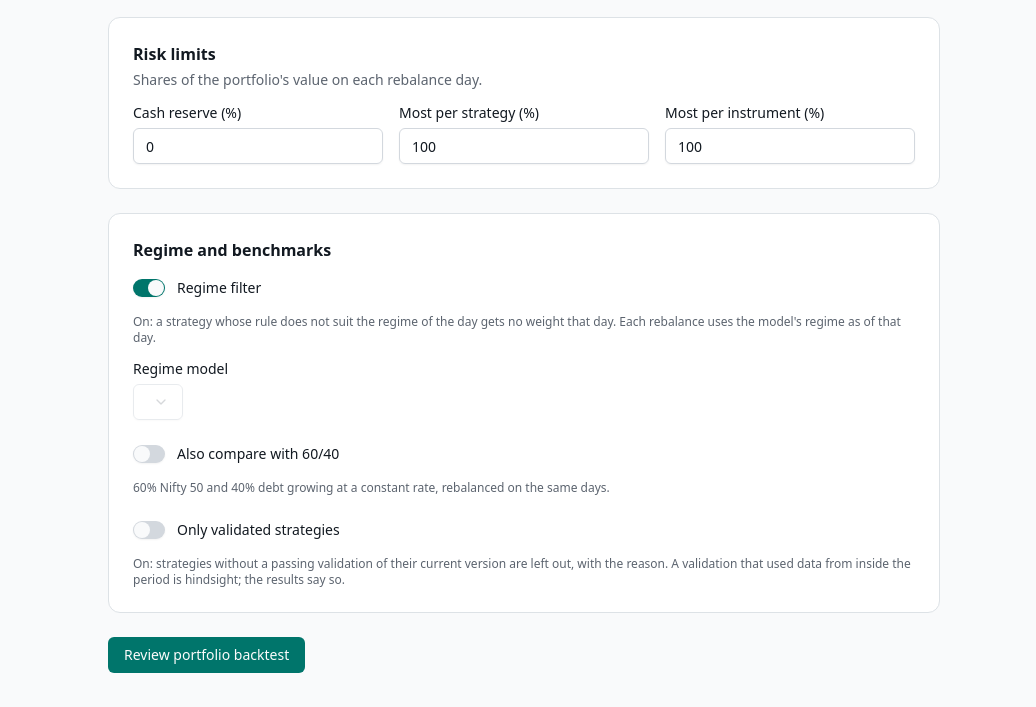
Test case: NewPortfolioBacktestPage › marks what is missing and shows the backend refusal
(page scrolled)
What coordinates should you click on to do the following:
click the button "Review portfolio backtest"
I would click on:
 (207, 655)
Its box is [108, 637, 305, 673].
(page scrolled)
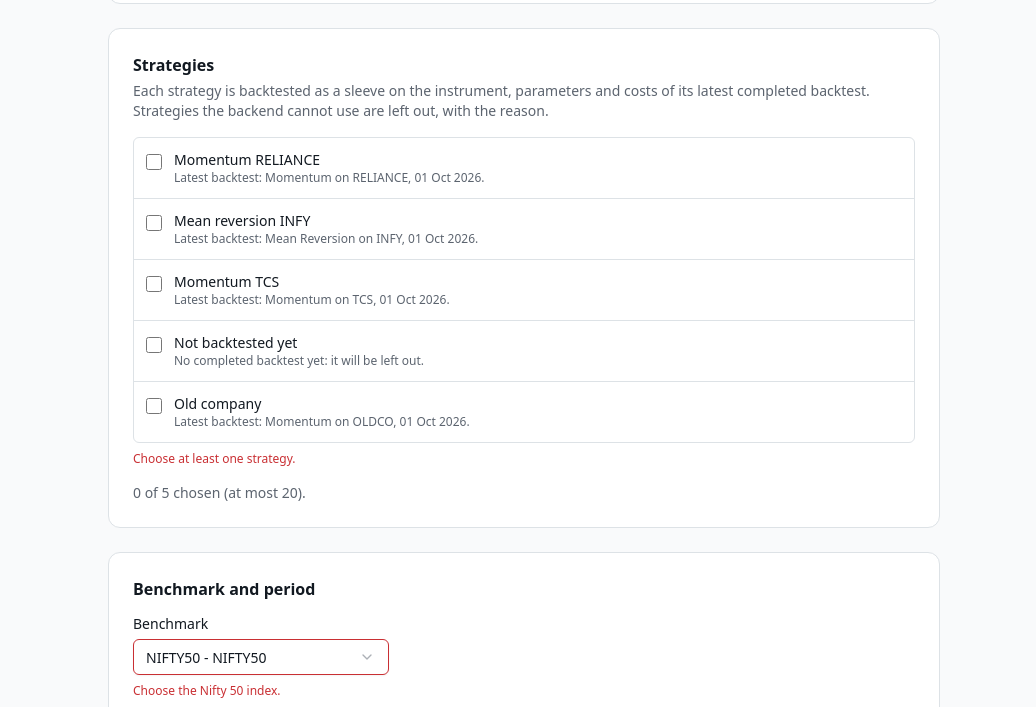
Now the text "Choose at least one strategy." is shown, box [133, 450, 296, 467]
What coordinates should you click on to do the following:
click the checkbox labelled "Not backtested yet"
I would click on:
 (154, 345)
Its box is [146, 337, 162, 353].
(page scrolled)
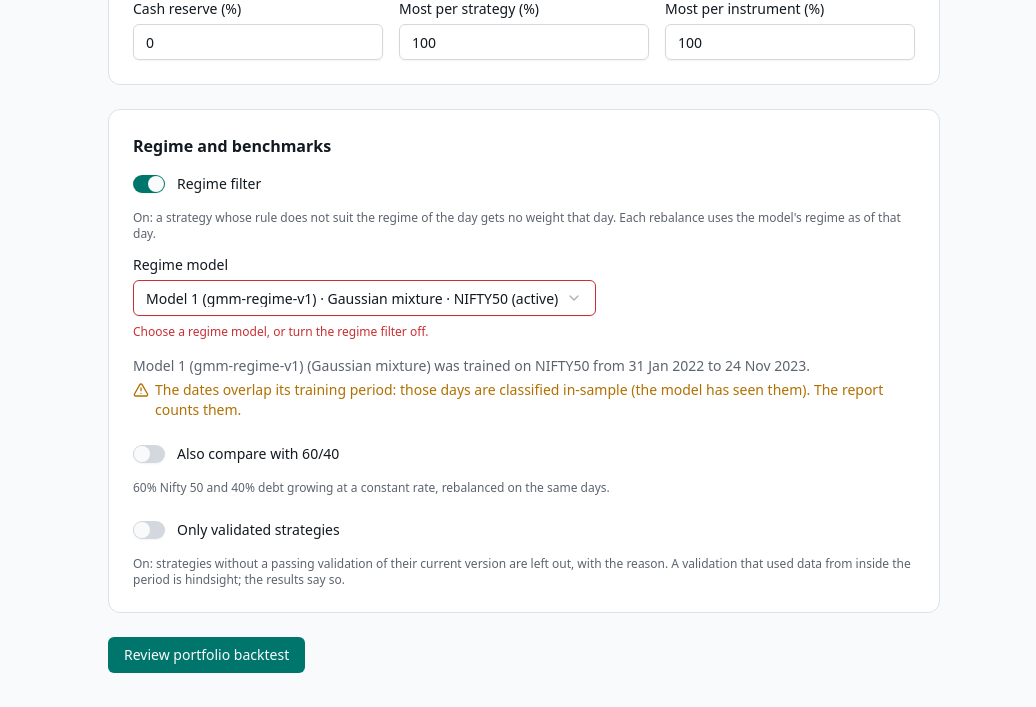
What coordinates should you click on to do the following:
click the button "Review portfolio backtest"
I would click on:
 (207, 655)
Its box is [108, 637, 305, 673].
(page scrolled)
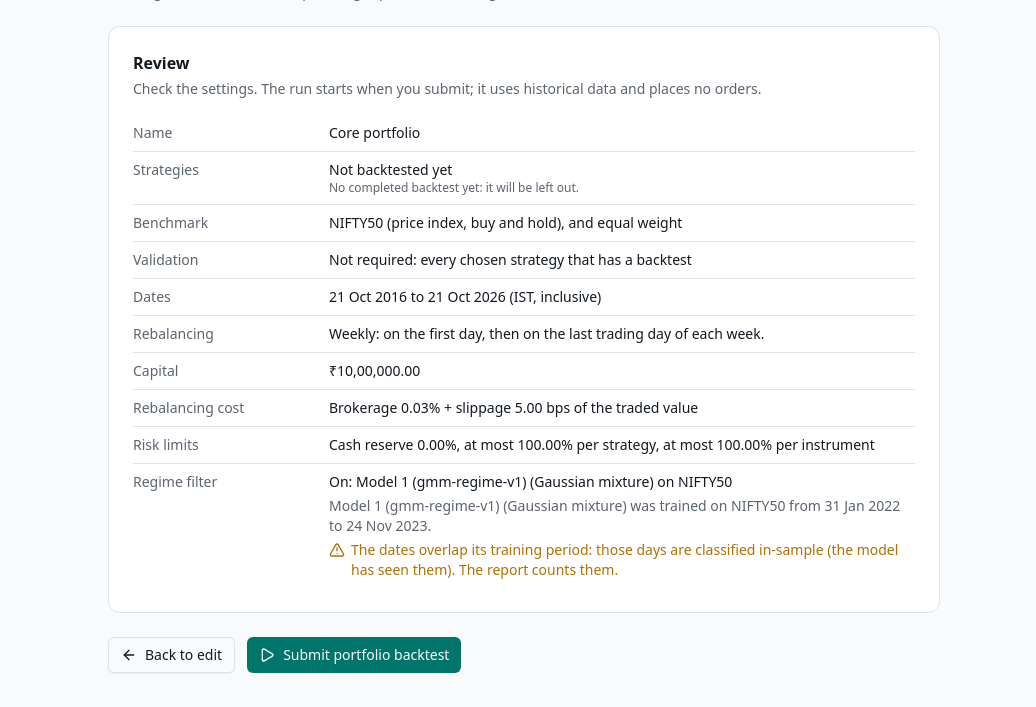
What coordinates should you click on to do the following:
click the button "Submit portfolio backtest"
I would click on:
 (354, 655)
Its box is [247, 637, 461, 673].
(page scrolled)
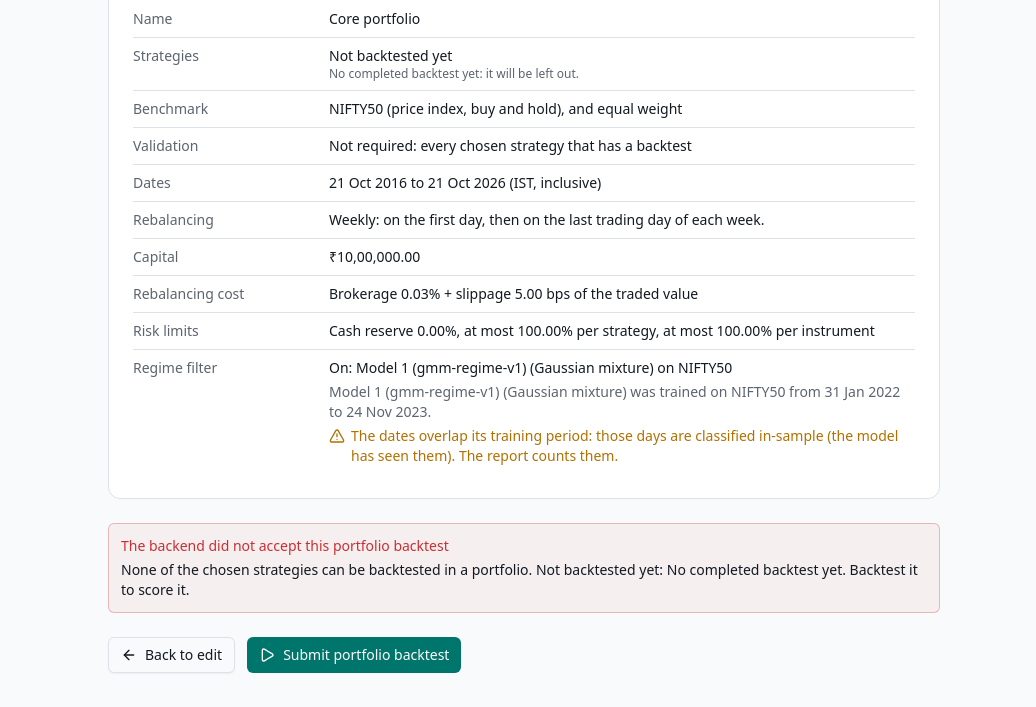
Now the message shows "The backend did not accept this portfolio backtest", box [121, 536, 449, 555]
Now the message shows "None of the chosen strategies can be backtested in a portfolio. Not backtested yet: No completed backtest yet. Backtest it to score it.", box [121, 560, 918, 599]
